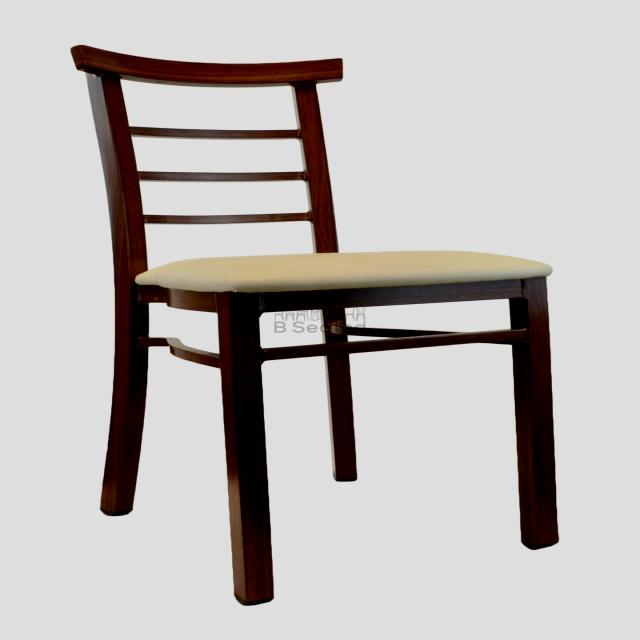Chair: (71, 45, 564, 609)
